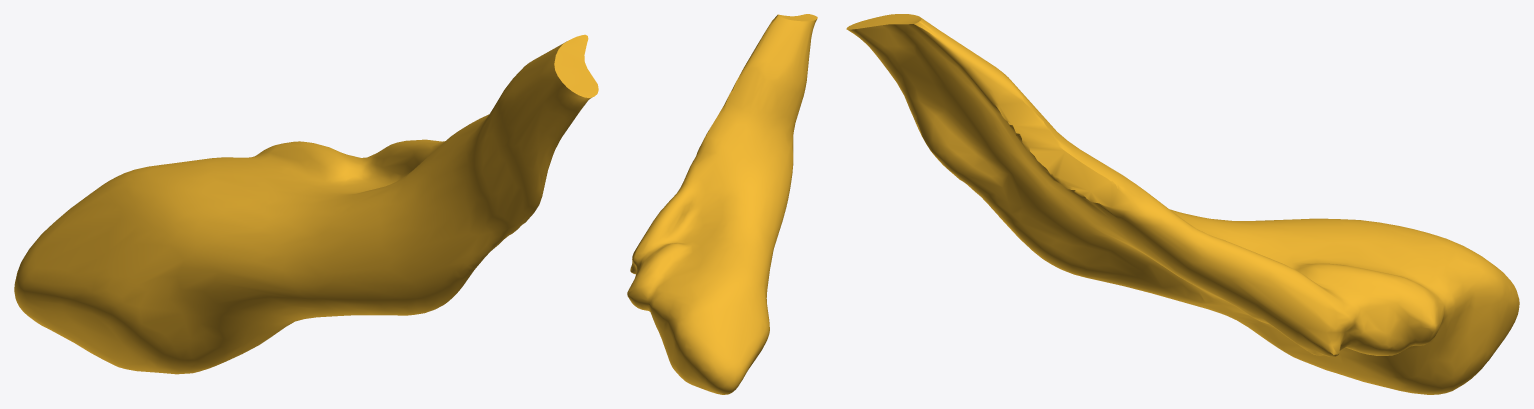
Rendered from nervoso-superior-cerebellar-peduncle-r.glb.
The picture shows the model from 3 angles, left to right: view 1: azimuth 30°, elevation 25°; view 2: azimuth 150°, elevation 25°; view 3: azimuth 270°, elevation 25°; orthographic projection. The views are drawn at different scales.
Parts seen in each view (by area): view 1: Superior cerebellar peduncle.r; view 2: Superior cerebellar peduncle.r; view 3: Superior cerebellar peduncle.r.
Part boxes in pixels (box(x1,y1,x2,y2)): Superior cerebellar peduncle.r: box(14, 34, 598, 374); Superior cerebellar peduncle.r: box(627, 14, 817, 394); Superior cerebellar peduncle.r: box(846, 14, 1519, 394).
Size of the model in its own units: 0.0137 by 0.0213 by 0.03.
